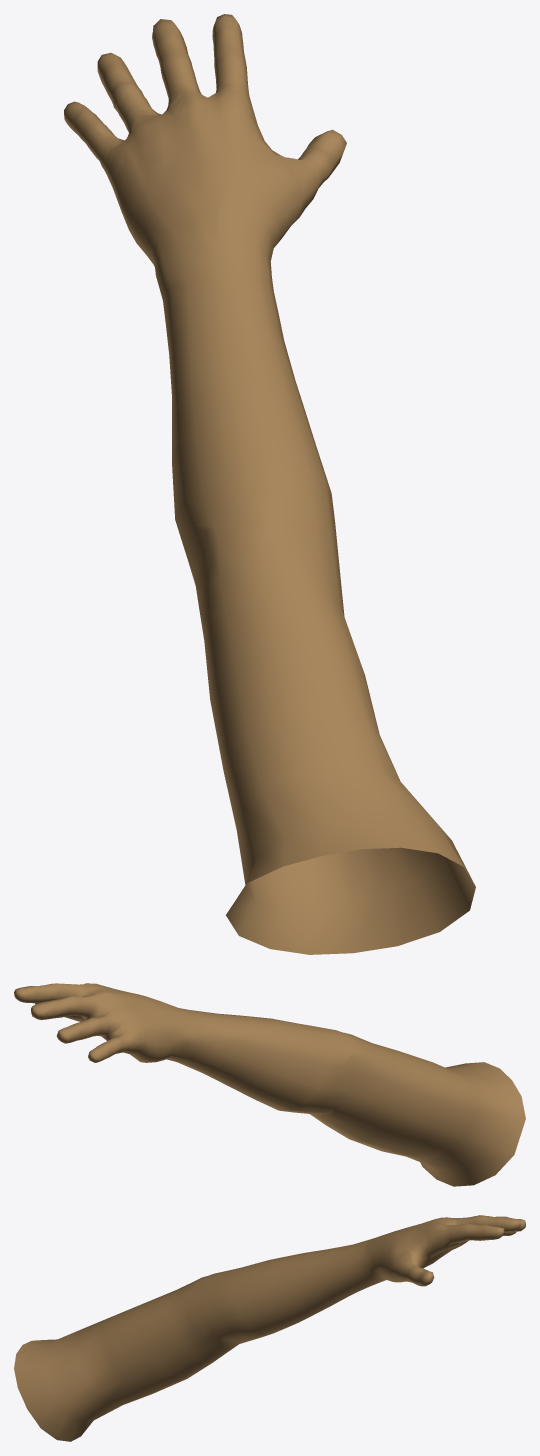
Rendered from arm.fbx.
3 renders of one model, top to bottom at view 1: azimuth 30°, elevation 25°; view 2: azimuth 150°, elevation 25°; view 3: azimuth 270°, elevation 25°, orthographic. The views are drawn at different scales.
Parts seen in each view (by area): view 1: hands_left; view 2: hands_left; view 3: hands_left.
Part boxes in pixels (x1,y1,x2,y2): hands_left: [64, 14, 475, 954]; hands_left: [14, 983, 525, 1186]; hands_left: [14, 1215, 525, 1441].
Size of the model in its own units: 0.1268 by 0.145 by 0.2403.
